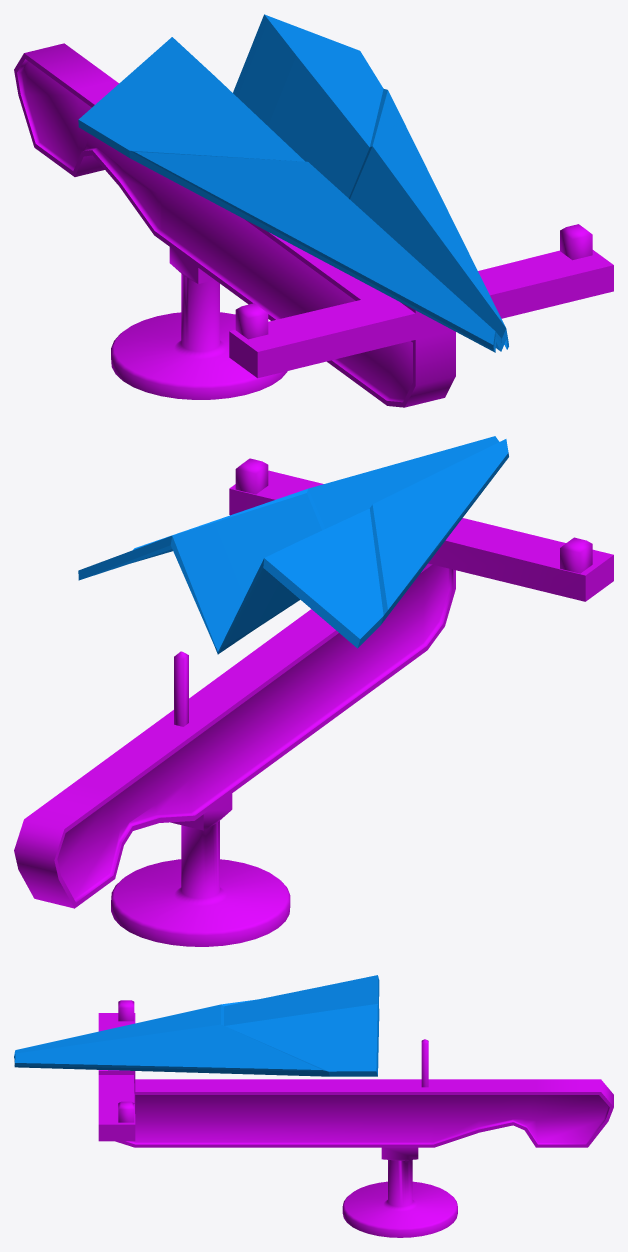
Rendered from AeroplaneLauncher.fbx.
3 renders of one model, top to bottom at view 1: azimuth 30°, elevation 25°; view 2: azimuth 150°, elevation 25°; view 3: azimuth 270°, elevation 25°, orthographic. The views are drawn at different scales.
Visible parts, largest first — view 1: PaperPlane, ShooterBase; view 2: ShooterBase, PaperPlane; view 3: ShooterBase, PaperPlane.
Boxes of the visible parts, bbox=[...] form: PaperPlane: bbox=[78, 14, 508, 352]; ShooterBase: bbox=[14, 43, 613, 407]; ShooterBase: bbox=[14, 458, 613, 946]; PaperPlane: bbox=[78, 436, 508, 654]; ShooterBase: bbox=[98, 1000, 613, 1237]; PaperPlane: bbox=[14, 975, 379, 1076].
Bounding box in the file's own units: 188 × 176 × 426.
